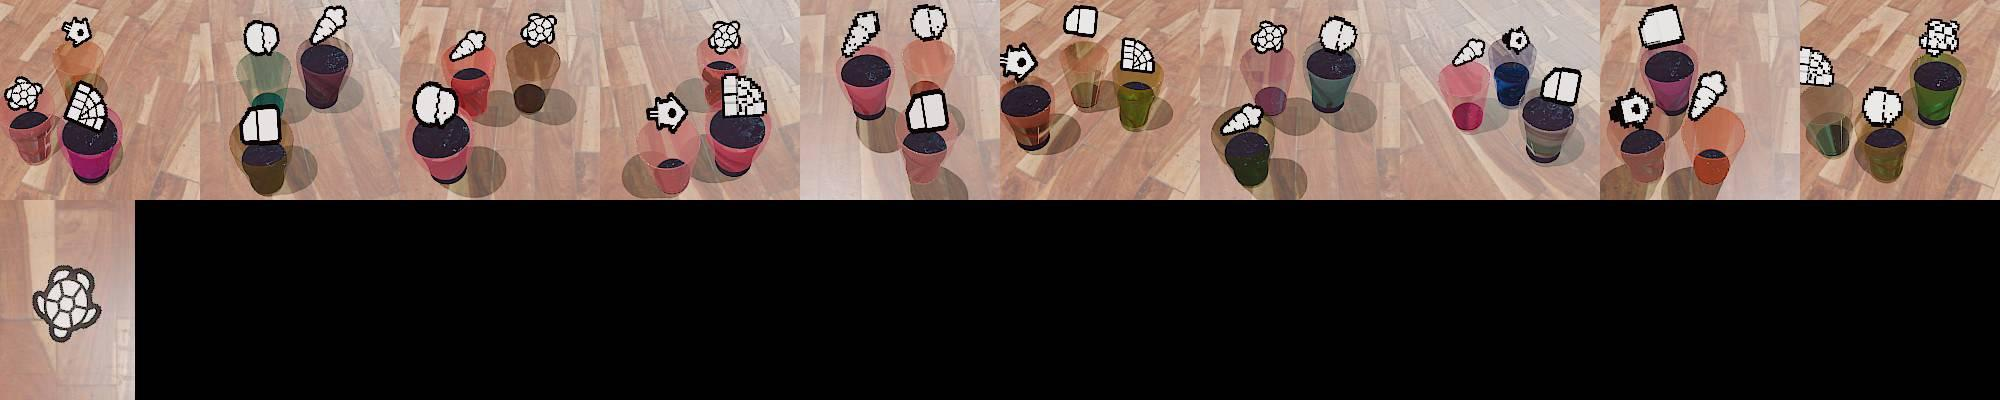icon: (29, 265, 103, 344), (64, 79, 111, 130), (411, 80, 460, 127), (719, 71, 768, 118), (1686, 69, 1728, 122), (1636, 4, 1684, 50), (904, 84, 949, 132), (841, 9, 881, 59), (240, 102, 284, 145), (1610, 87, 1656, 129), (647, 90, 689, 134), (1860, 85, 1903, 127), (1538, 66, 1583, 107), (1917, 18, 1962, 57), (310, 4, 348, 47), (1798, 45, 1837, 88), (999, 42, 1038, 83), (1219, 101, 1265, 135), (909, 4, 948, 42), (1319, 17, 1357, 54), (4, 75, 43, 111), (1120, 36, 1156, 74), (519, 13, 559, 47), (1062, 4, 1099, 39), (1250, 19, 1287, 55), (244, 19, 279, 55), (707, 19, 741, 55), (449, 28, 486, 61), (1450, 36, 1485, 68), (61, 15, 93, 48), (1500, 24, 1532, 55)
